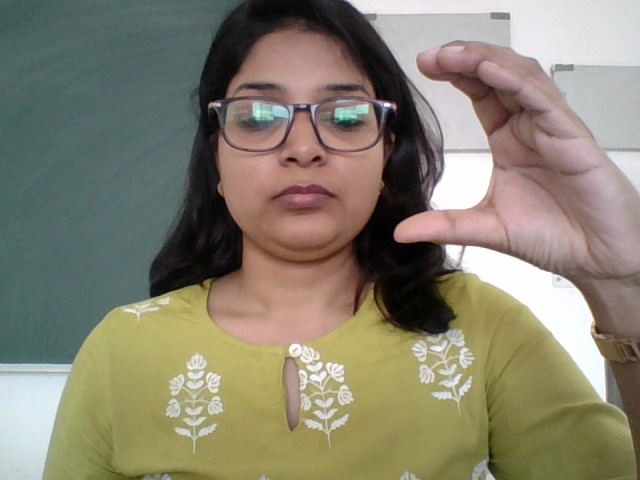C: (406, 41, 622, 285)
